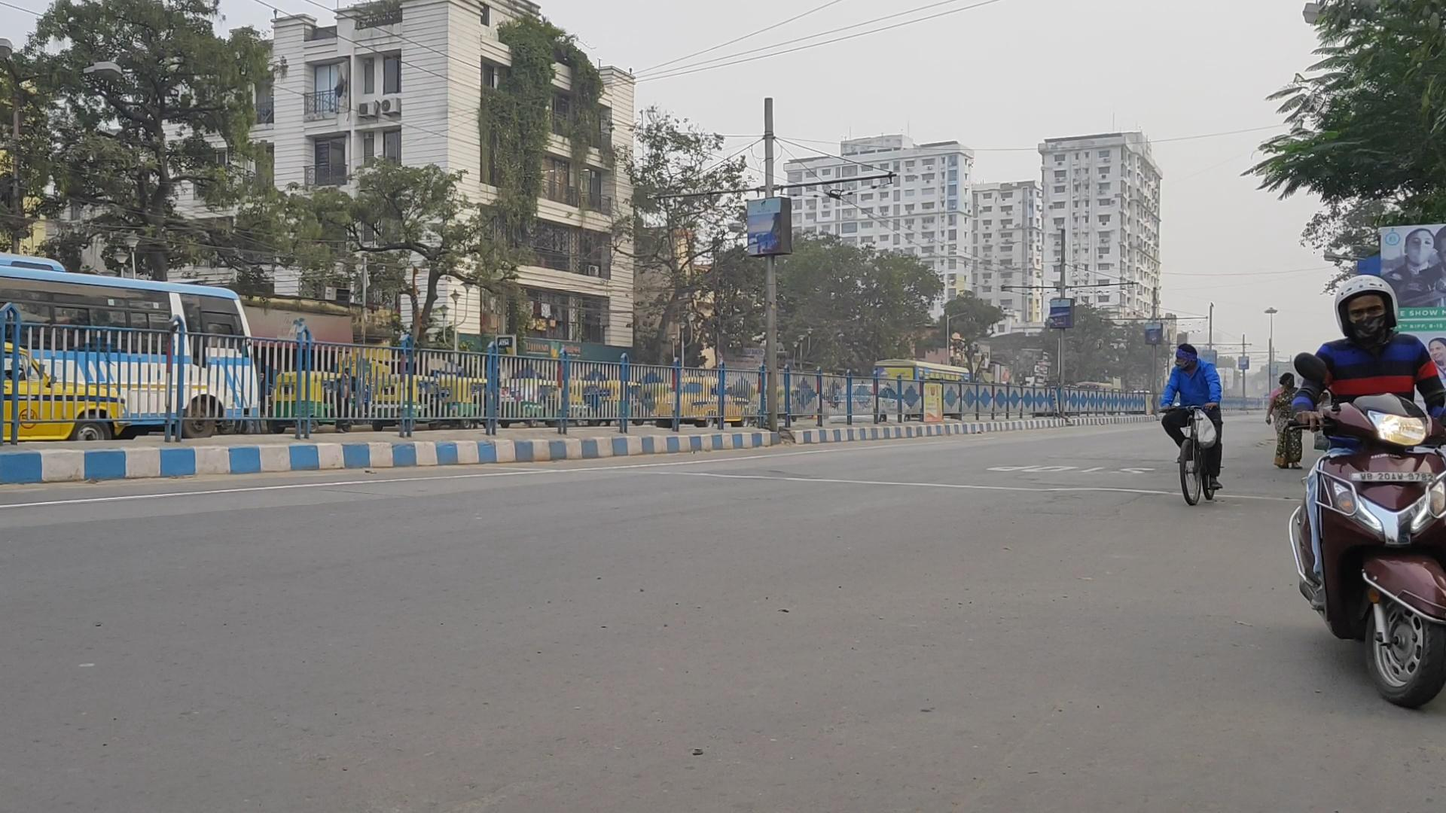bike: (1286, 273, 1446, 709), (1158, 343, 1225, 507)
